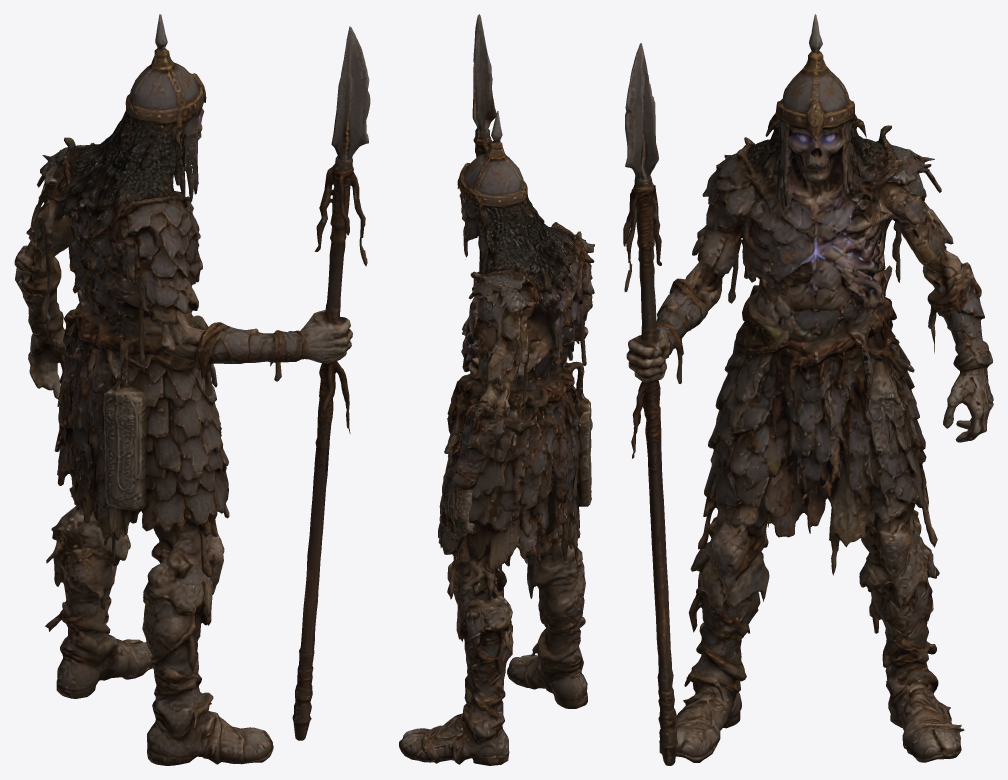
Rendered from RisenTrooper-repaired.glb.
3 views of the same model, side by side, from view 1: azimuth 30°, elevation 25°; view 2: azimuth 150°, elevation 25°; view 3: azimuth 270°, elevation 25° (orthographic). The views are drawn at different scales.
Parts seen in each view (by area): view 1: RisenTrooper_Repaired; view 2: RisenTrooper_Repaired; view 3: RisenTrooper_Repaired.
Boxes of the visible parts, box(x1,y1,x2,y2) form: RisenTrooper_Repaired: box(14, 14, 370, 765); RisenTrooper_Repaired: box(399, 14, 594, 765); RisenTrooper_Repaired: box(623, 14, 993, 765).
Bounding box in the file's own units: 0.2927 × 0.9984 × 0.4451.
Materials: 1 (1 with a texture image).
